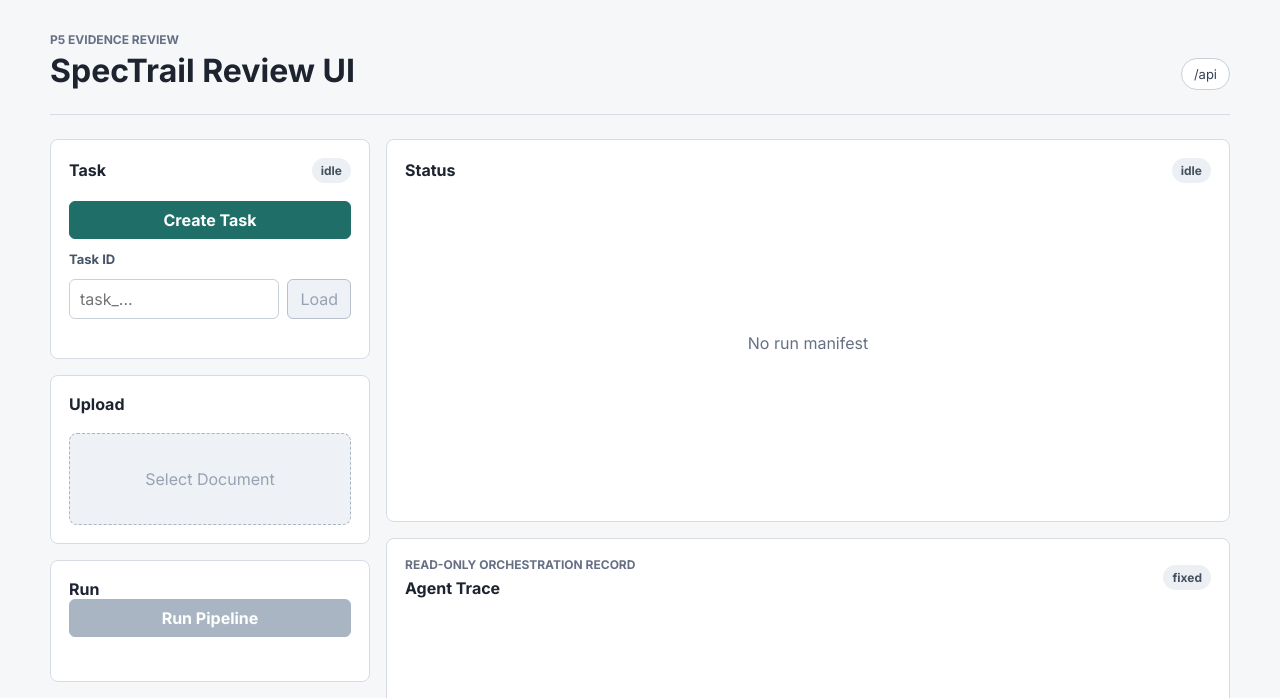
it: App pipeline run reconciliation › rejects a stale review revision and offers to reload Evidence
The image size is (1280, 698).
Type "task-1" into the field labelled "Task ID" at (174, 299), box 69,279 -> 279,319
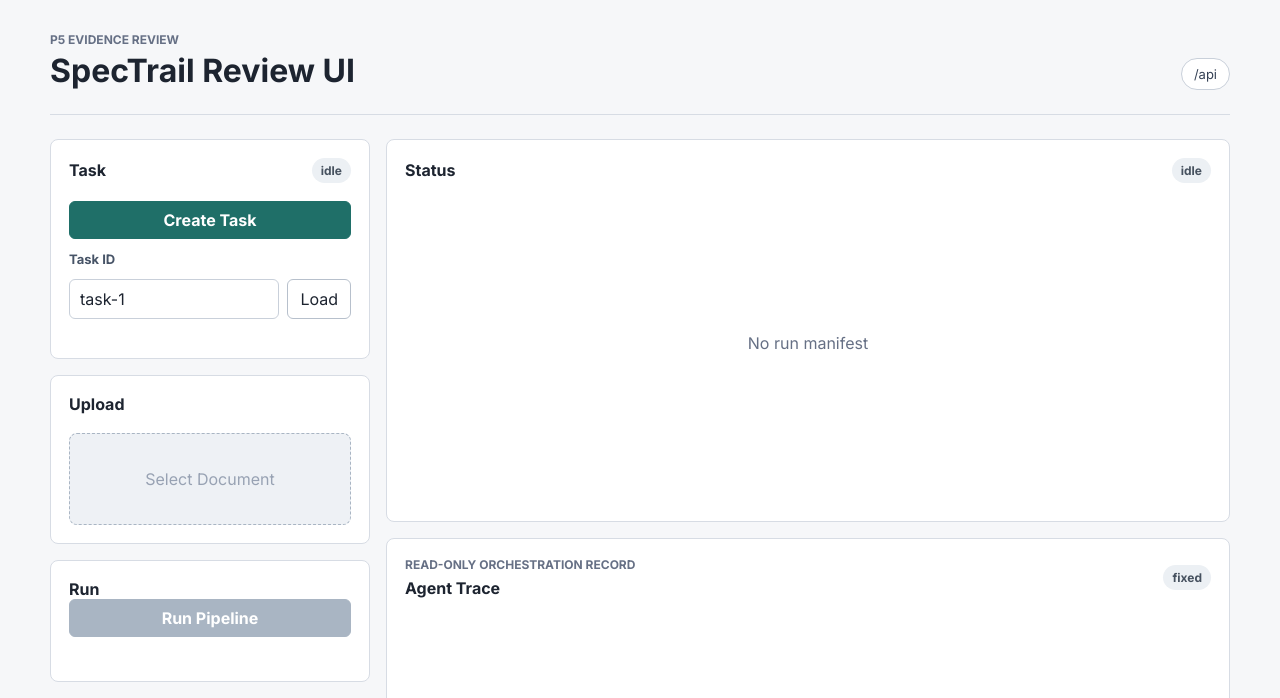
Click the button "Load" at (319, 299), box 287,279 -> 351,319
(page scrolled)
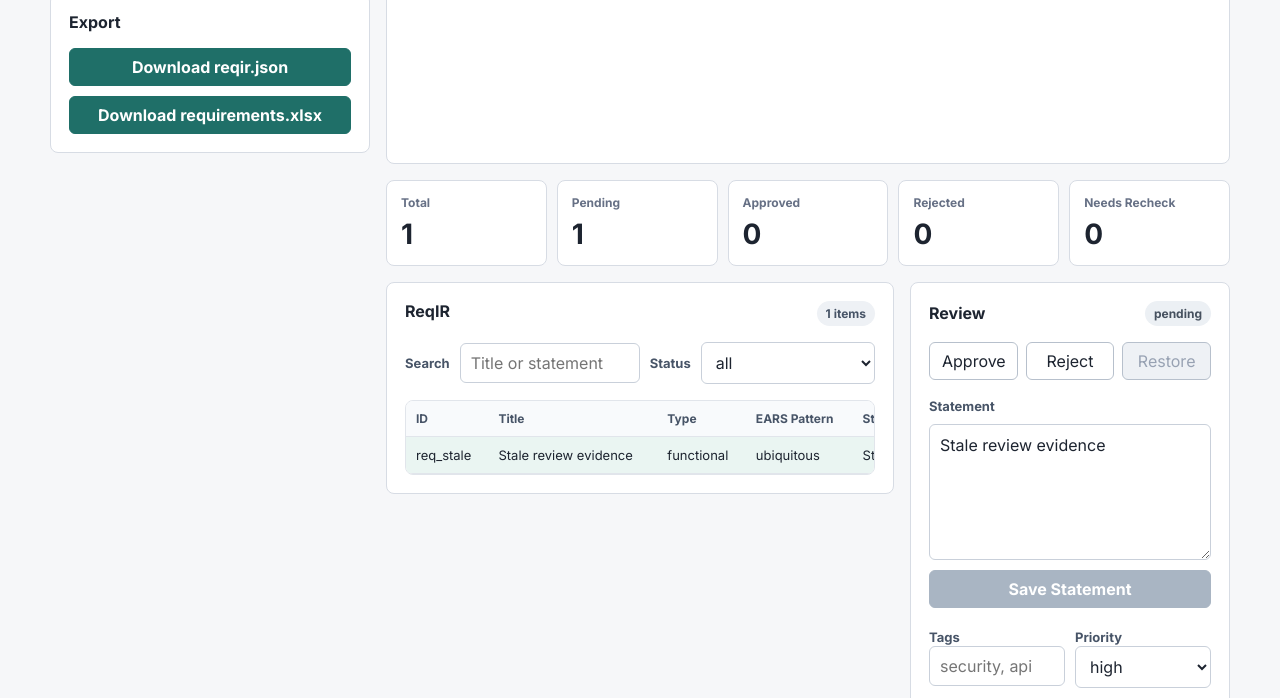
Click the button "Approve" at (973, 361), box 929,342 -> 1018,380
(page scrolled)
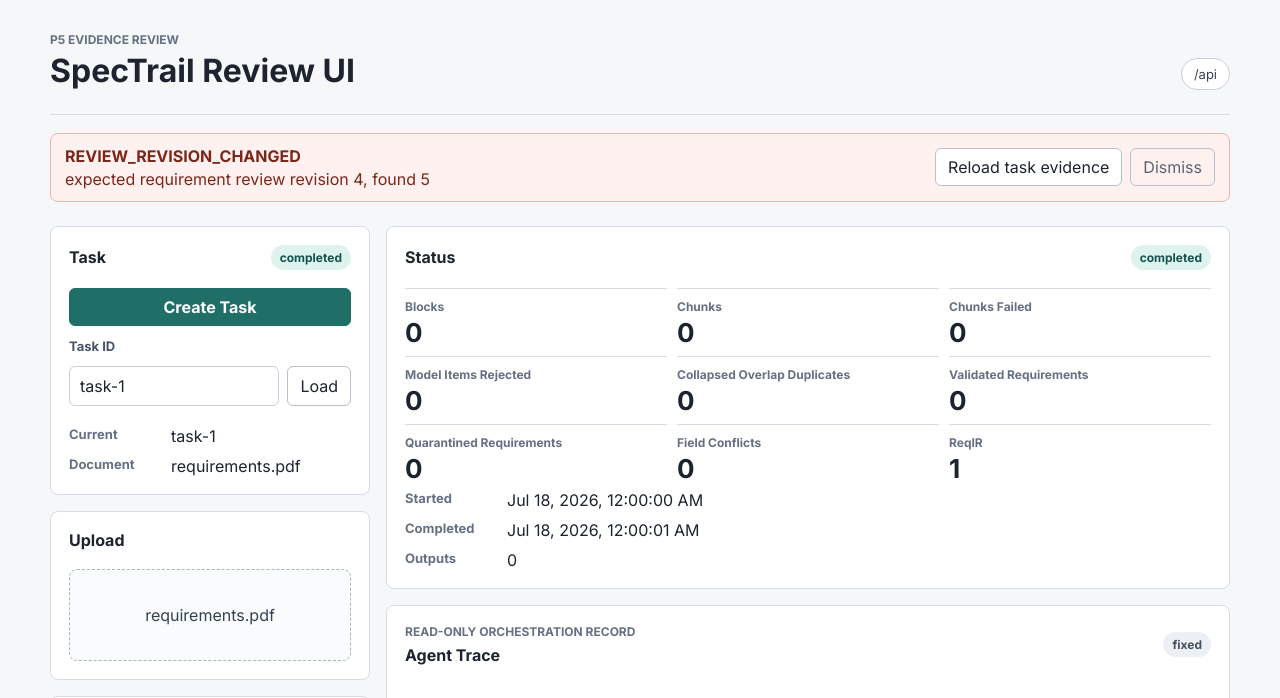
Now the message shows "REVIEW_REVISION_CHANGED", box 65,146 -> 301,166
Now the button "Reload task evidence" is shown, box 935,148 -> 1122,186
